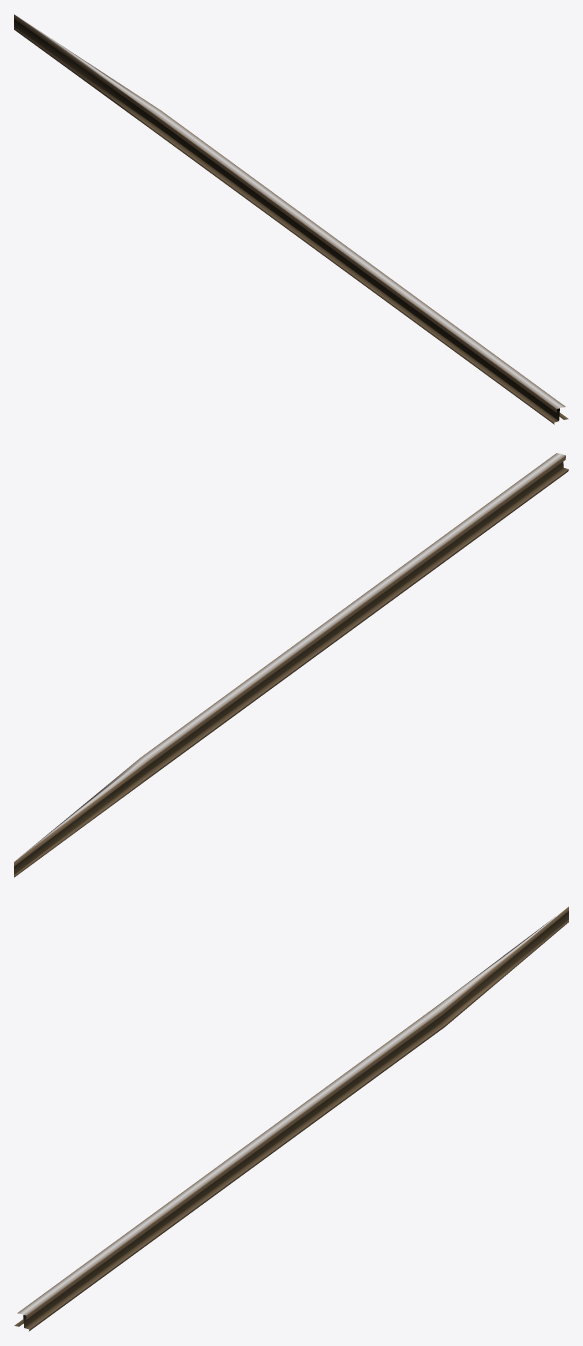
The model's file is AMB_POINTRAILONLY.glb.
The picture shows the model from 3 angles, top to bottom: view 1: azimuth 30°, elevation 25°; view 2: azimuth 150°, elevation 25°; view 3: azimuth 330°, elevation 25°; orthographic projection. The views are drawn at different scales.
Visible parts, largest first — view 1: obj7; view 2: obj7; view 3: obj7.
Boxes of the visible parts, x1,y1,x2,y2 form: obj7: [14, 14, 568, 424]; obj7: [14, 453, 568, 877]; obj7: [14, 906, 568, 1331].
Size of the model in its own units: 0.3996 by 0.3971 by 25.
Materials: 2 (1 with a texture image).
